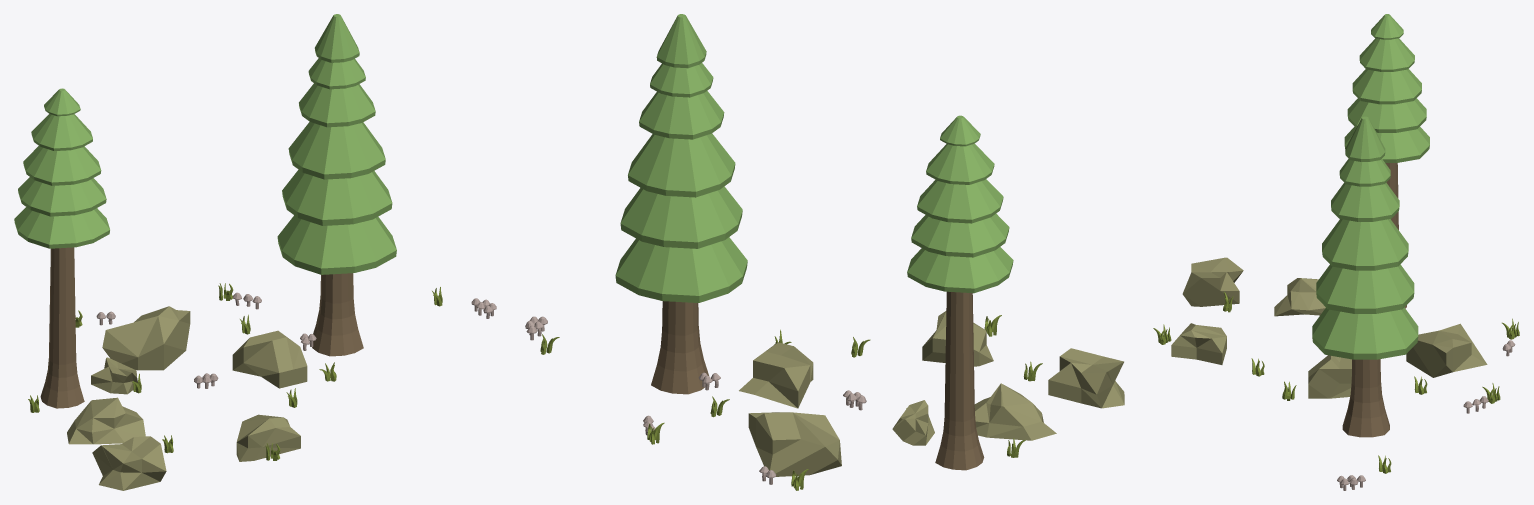
The model's file is ForrestG.fbx.
3 views of the same model, side by side, from view 1: azimuth 30°, elevation 25°; view 2: azimuth 150°, elevation 25°; view 3: azimuth 270°, elevation 25° (orthographic). The views are drawn at different scales.
Parts seen in each view (by area): view 1: ForrestF; view 2: ForrestF; view 3: ForrestF.
Part boxes in pixels (bbox=[...]): ForrestF: bbox=[14, 14, 496, 490]; ForrestF: bbox=[525, 14, 1124, 490]; ForrestF: bbox=[1153, 14, 1519, 490].
Size of the model in its own units: 4186 by 2856 by 3038.
